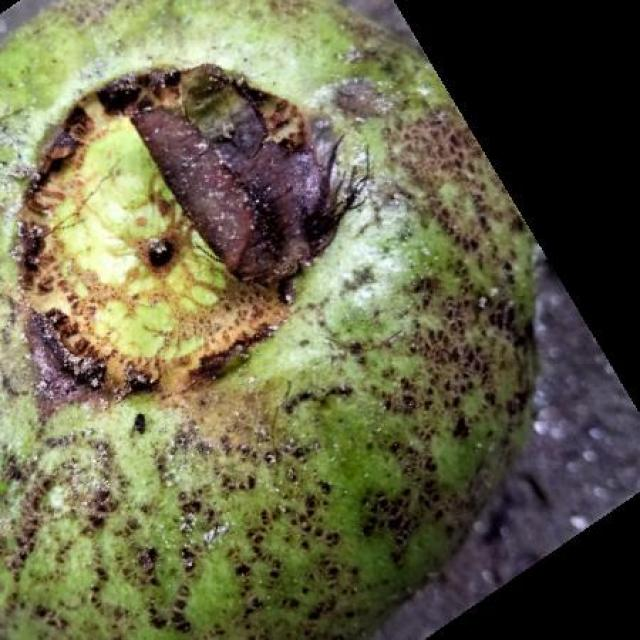Scab: (0, 0, 532, 640)
